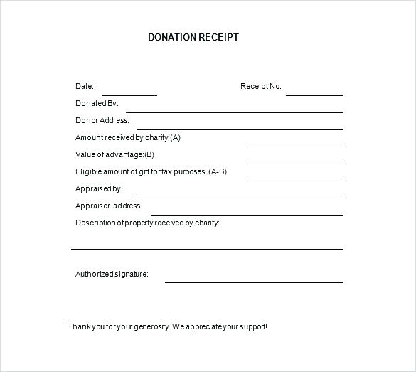textline: (68, 231, 346, 254), (161, 262, 346, 287), (132, 115, 346, 133), (122, 100, 346, 117), (129, 184, 346, 201), (146, 201, 346, 218), (242, 132, 346, 151), (242, 166, 345, 185), (243, 149, 345, 166), (284, 81, 346, 99), (100, 80, 159, 98)
